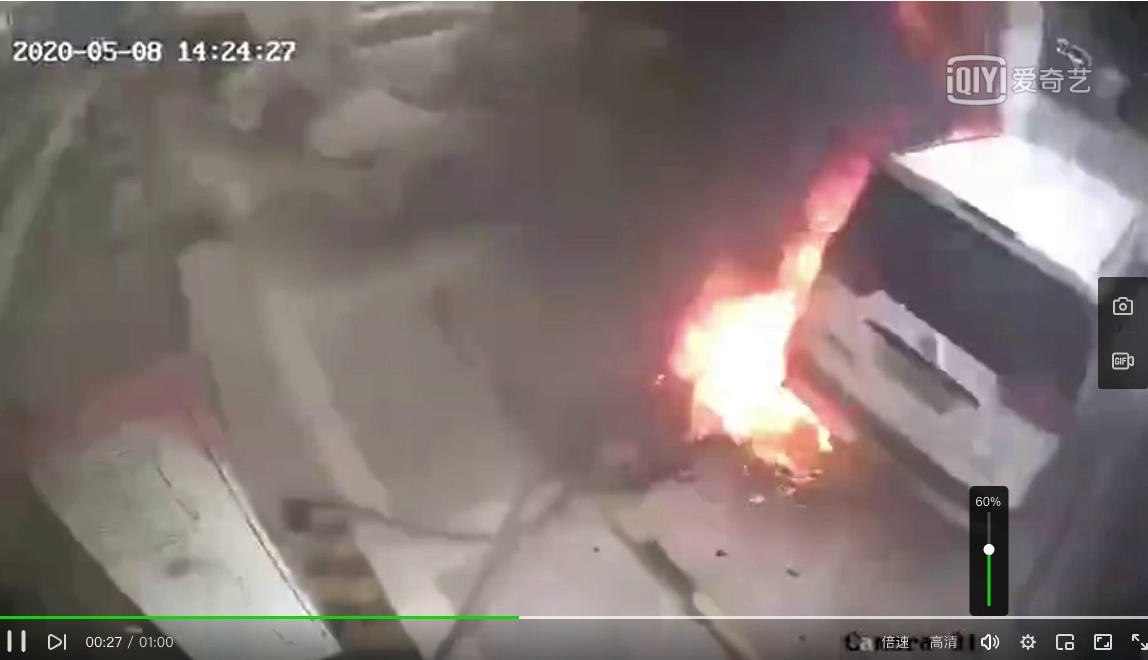fire: (664, 185, 857, 500)
smoke: (343, 32, 940, 344)
